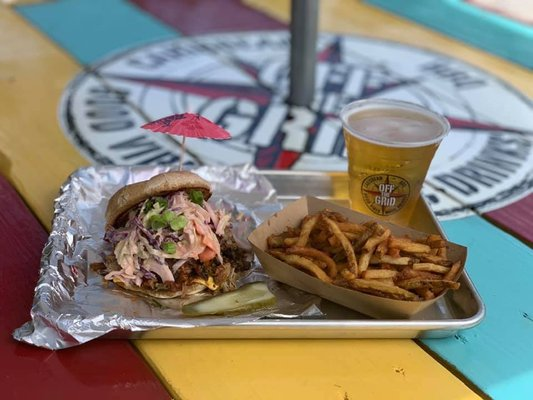pizza: (343, 102, 450, 227)
soup: (100, 170, 257, 303)
sushi: (248, 196, 478, 321)
